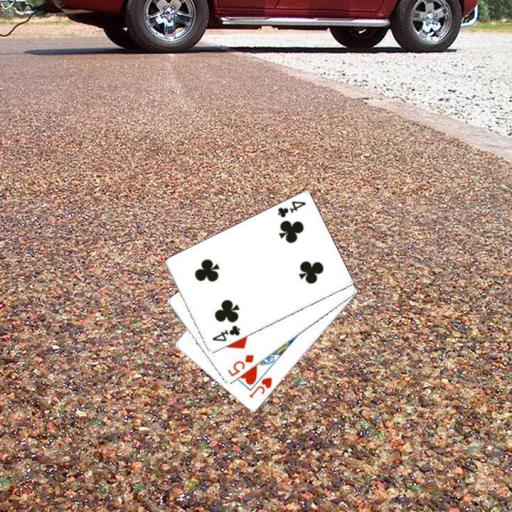4C: (209, 322, 242, 344), (274, 198, 307, 220)
5D: (224, 352, 255, 379)
JH: (246, 374, 274, 400)
